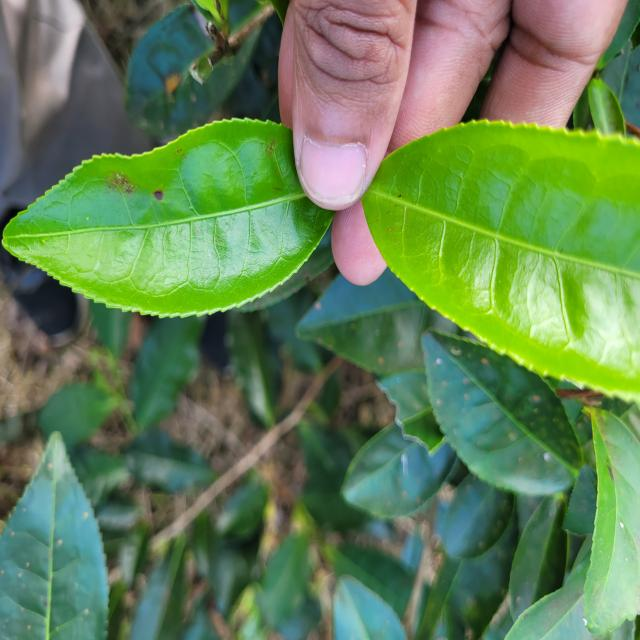Category B 2-4 days: (0, 99, 350, 349)
